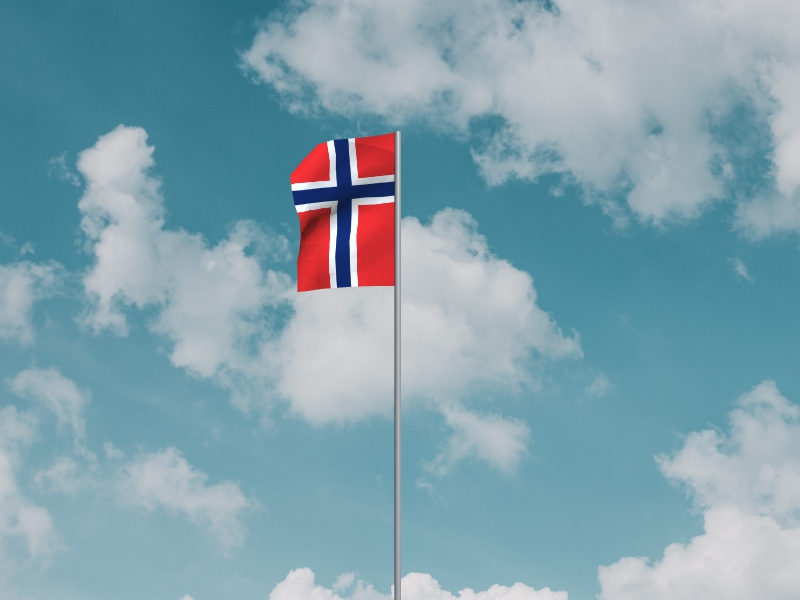no: (290, 133, 395, 293)
